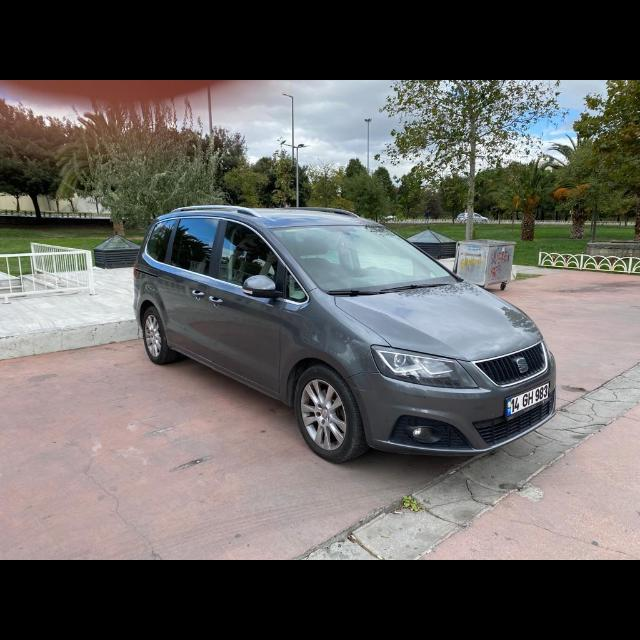Plaka: (508, 382, 552, 418)
